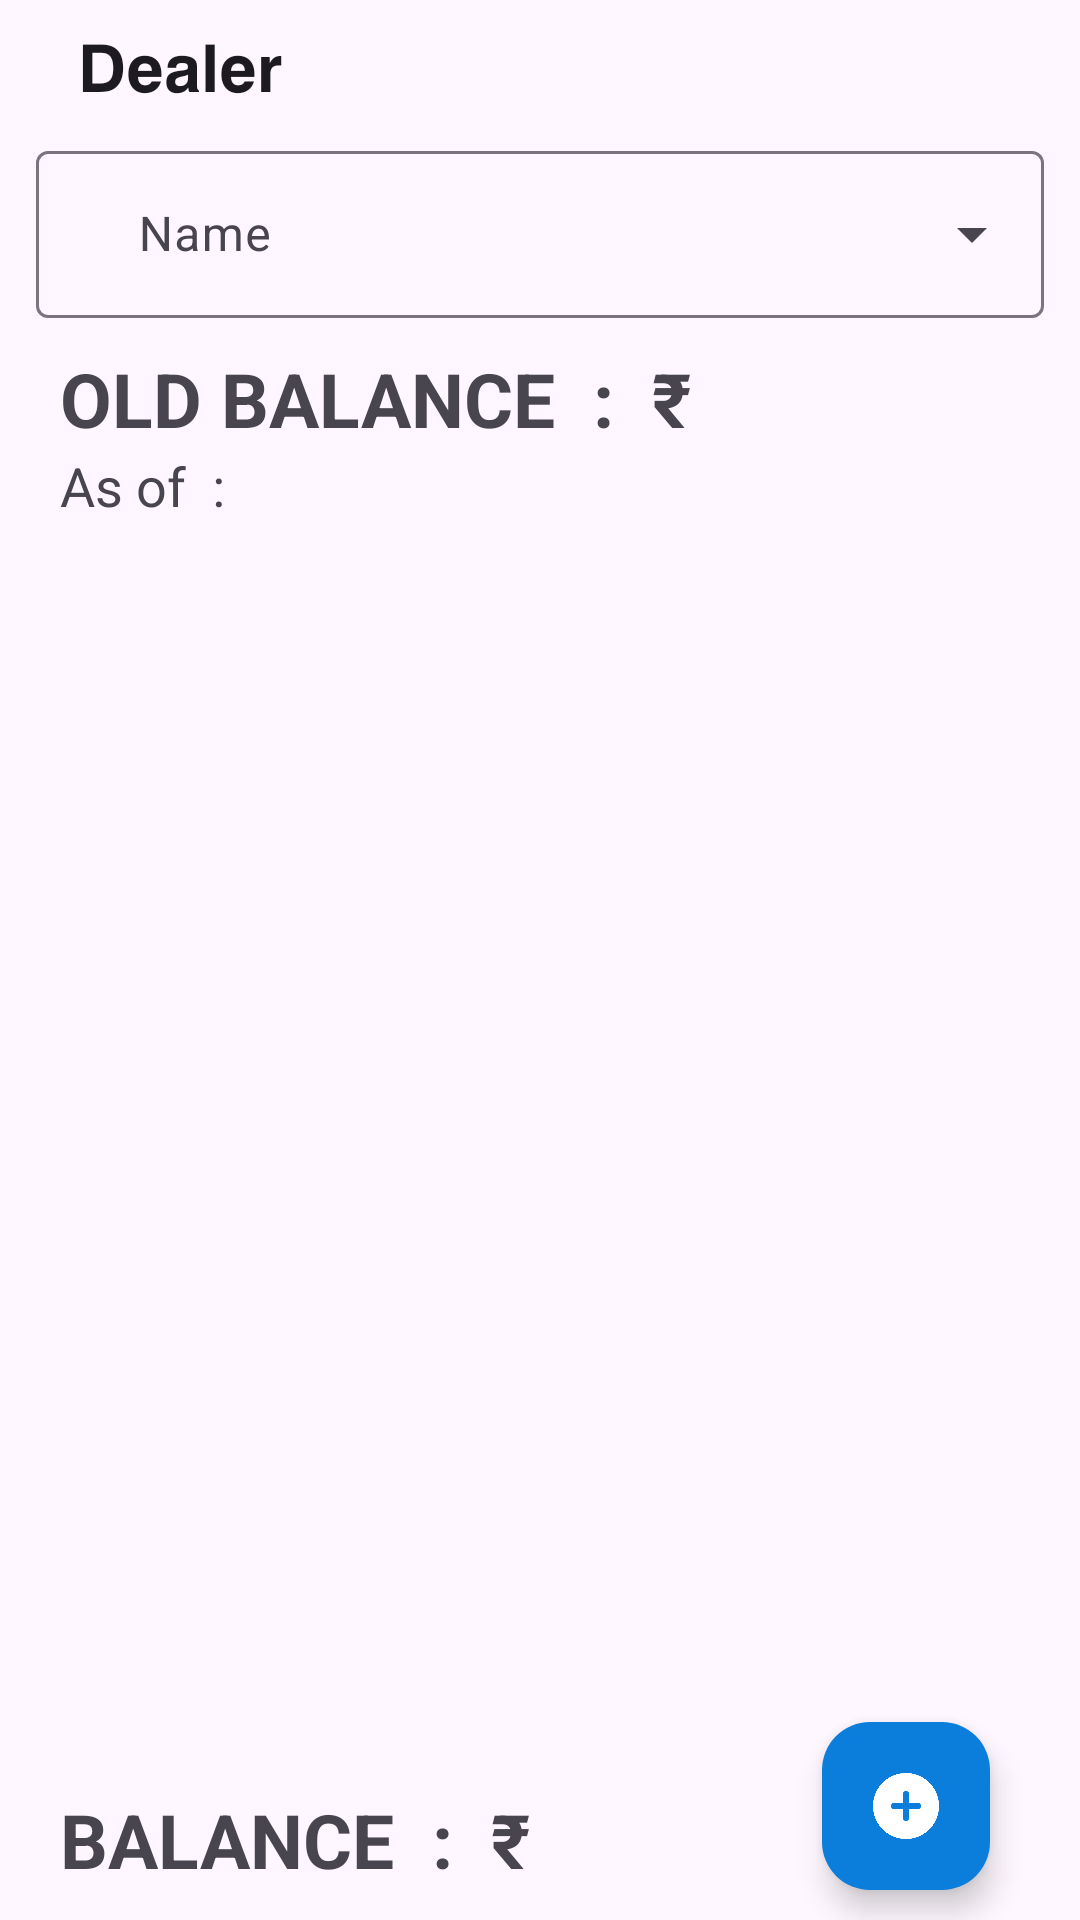

Icon bounding boxes for this 1080*1920 phone screenshot, format (x1, y1, x2, y2):
plus: (822, 1722, 990, 1890)
